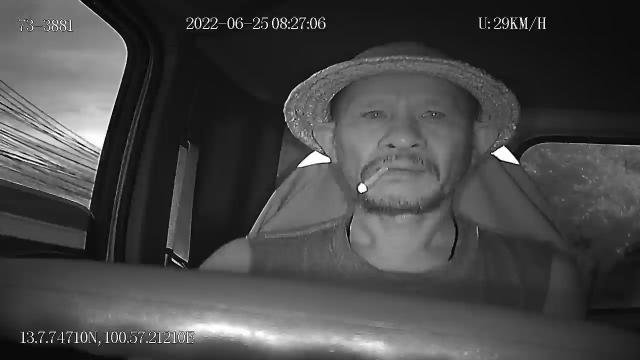SafeDriving: (355, 96, 394, 126), (413, 99, 451, 125)
Smoking: (358, 168, 392, 194)
